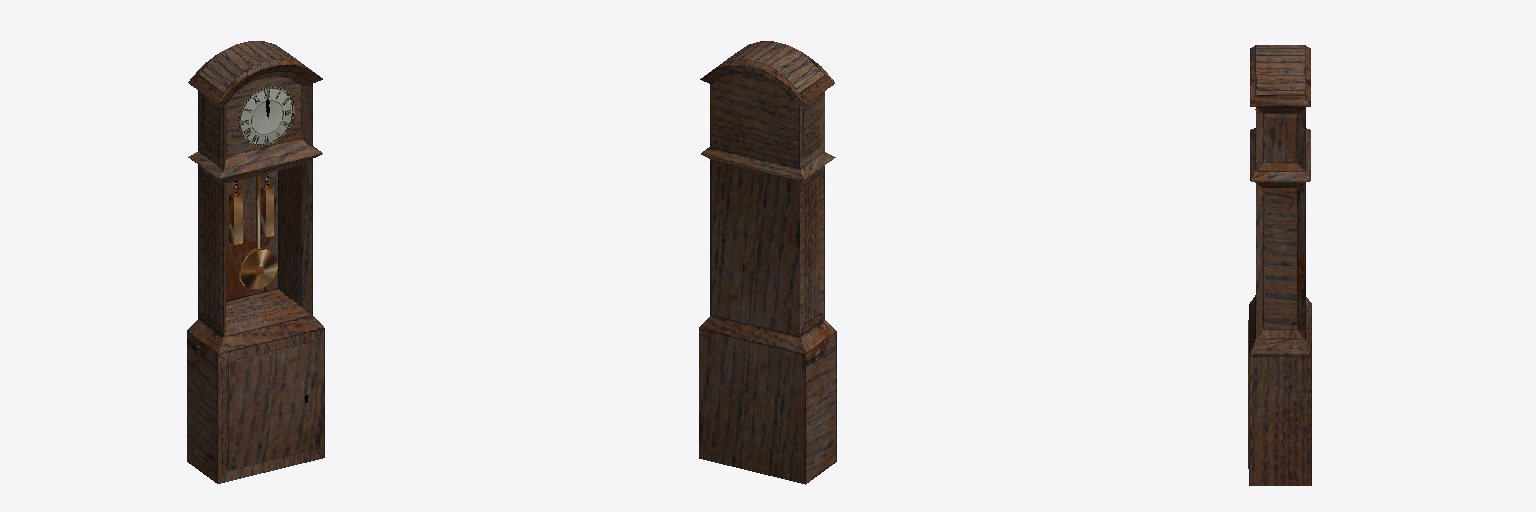
3 renders of one model, left to right at view 1: azimuth 30°, elevation 25°; view 2: azimuth 150°, elevation 25°; view 3: azimuth 270°, elevation 25°, orthographic.
Visible parts, largest first — view 1: clck_right_weight_clock_texture_right_weight_clock_texture_clock; view 2: clck_right_weight_clock_texture_right_weight_clock_texture_clock; view 3: clck_right_weight_clock_texture_right_weight_clock_texture_clock.
Part boxes in pixels (x1,y1,x2,y2): clck_right_weight_clock_texture_right_weight_clock_texture_clock: (187,41,324,483); clck_right_weight_clock_texture_right_weight_clock_texture_clock: (699,41,836,484); clck_right_weight_clock_texture_right_weight_clock_texture_clock: (1248,45,1311,485).
Bounding box in the file's own units: 2.17 × 7.91 × 1.11.
2 materials, 1 textured.